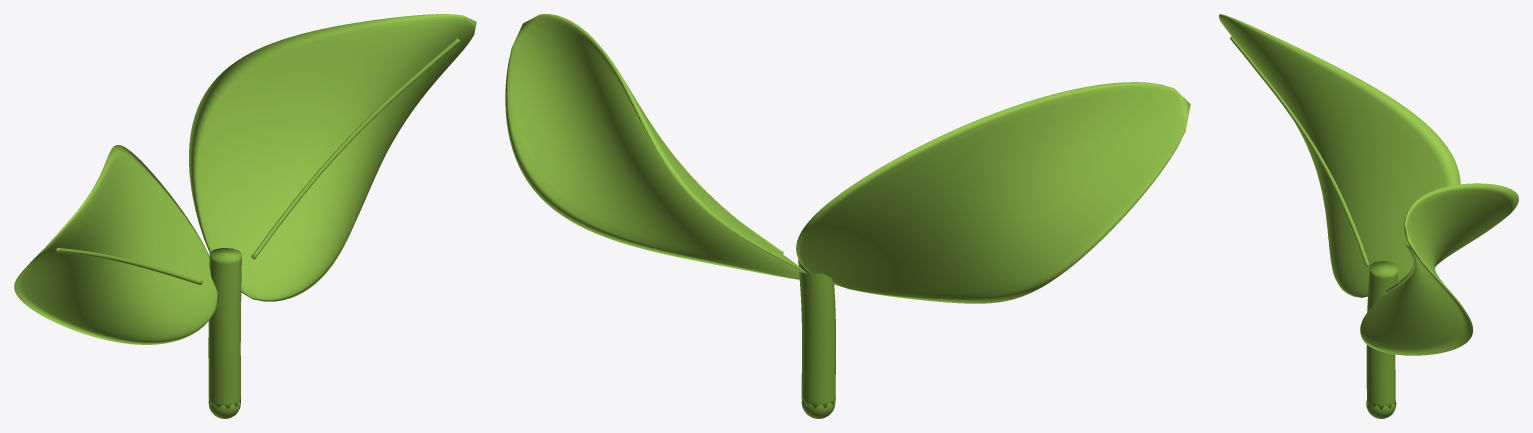
File: sprout.glb
The picture shows the model from 3 angles, left to right: view 1: azimuth 30°, elevation 25°; view 2: azimuth 150°, elevation 25°; view 3: azimuth 270°, elevation 25°; orthographic projection. The views are drawn at different scales.
Parts seen in each view (by area): view 1: sprout_leaf_1, sprout_leaf_-1, sprout_stem, sprout_vein_1, sprout_vein_-1; view 2: sprout_leaf_-1, sprout_leaf_1, sprout_stem; view 3: sprout_leaf_-1, sprout_leaf_1, sprout_stem, sprout_vein_-1, sprout_round_root.
Boxes of the visible parts, left/top/right/bottom form: sprout_leaf_1: left=189, top=14, right=476, bottom=301; sprout_leaf_-1: left=14, top=145, right=218, bottom=344; sprout_stem: left=208, top=248, right=241, bottom=409; sprout_vein_1: left=251, top=38, right=460, bottom=259; sprout_vein_-1: left=55, top=248, right=202, bottom=285; sprout_leaf_-1: left=796, top=82, right=1190, bottom=303; sprout_leaf_1: left=505, top=14, right=806, bottom=279; sprout_stem: left=798, top=258, right=835, bottom=408; sprout_leaf_-1: left=1219, top=14, right=1460, bottom=297; sprout_leaf_1: left=1360, top=183, right=1518, bottom=355; sprout_stem: left=1366, top=261, right=1398, bottom=409; sprout_vein_-1: left=1230, top=36, right=1369, bottom=267; sprout_round_root: left=1366, top=400, right=1396, bottom=418.
Bounding box in the file's own units: 1.08 × 0.6399 × 0.5547.
